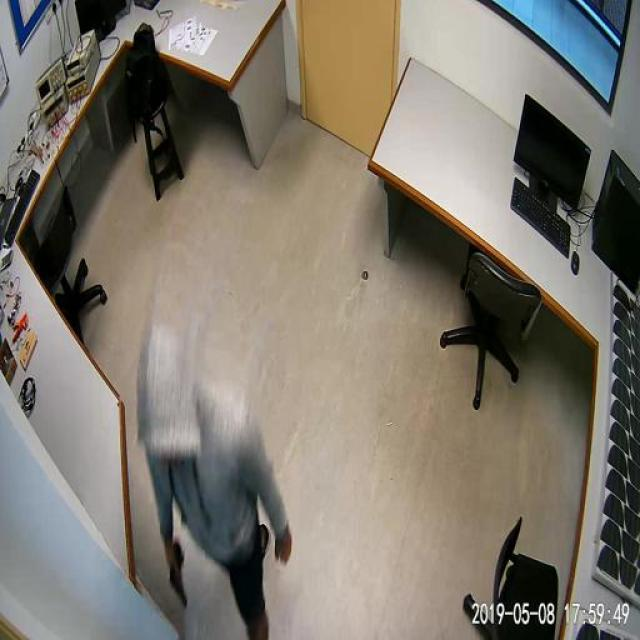Gun: (158, 537, 194, 610)
